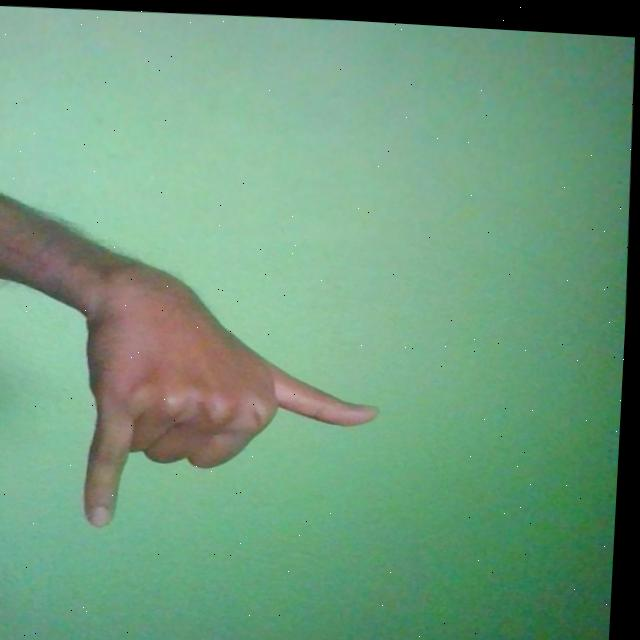Call Me: (77, 245, 394, 540)
